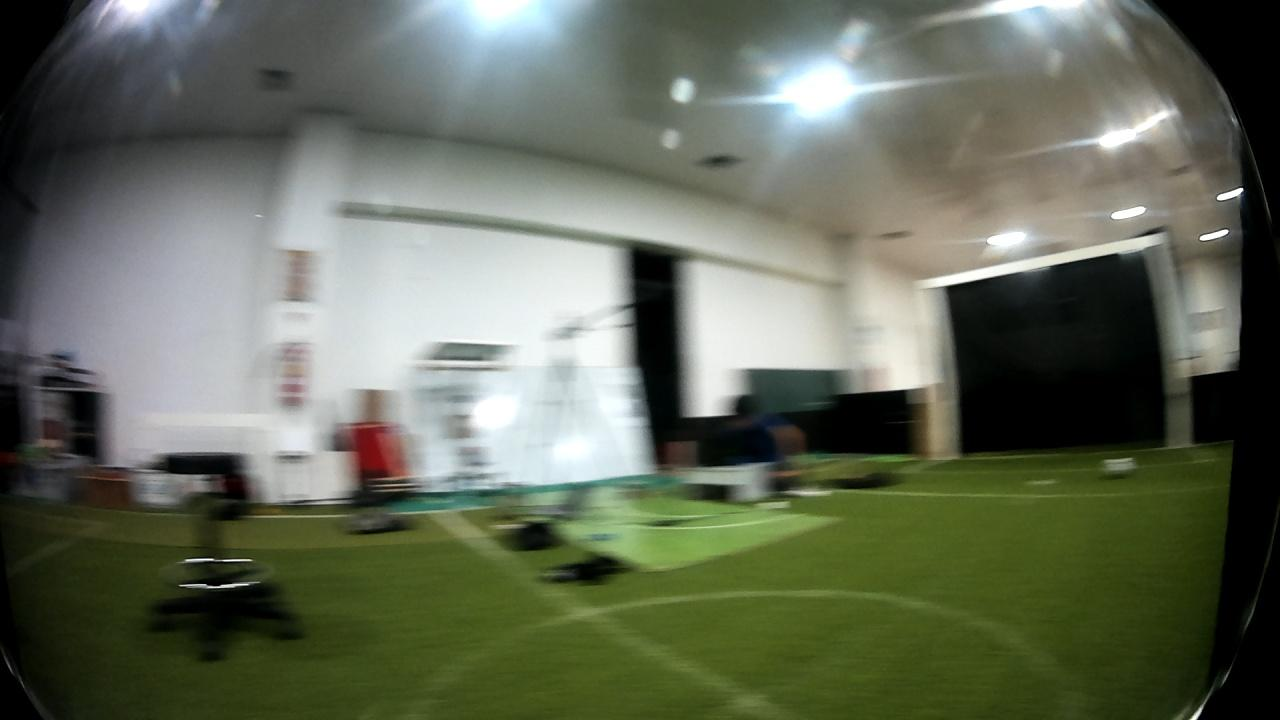ball: (1097, 453, 1139, 482)
